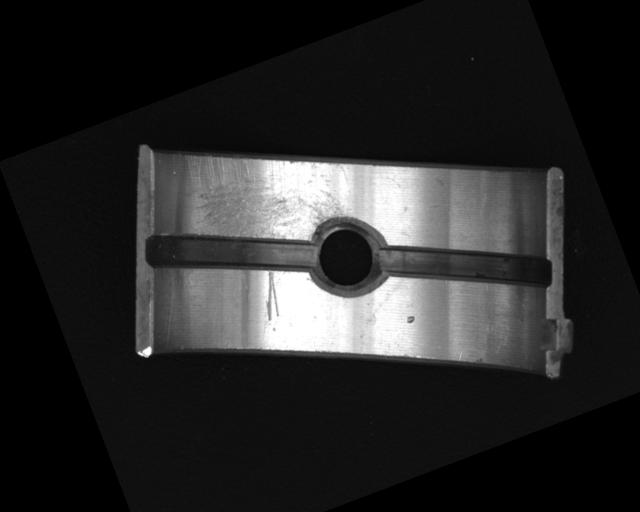bruise: (403, 312, 417, 324)
gap: (371, 194, 556, 339), (138, 183, 320, 322)
hole: (294, 206, 396, 306)
nick: (251, 269, 288, 322)
scratch: (178, 106, 355, 269)
